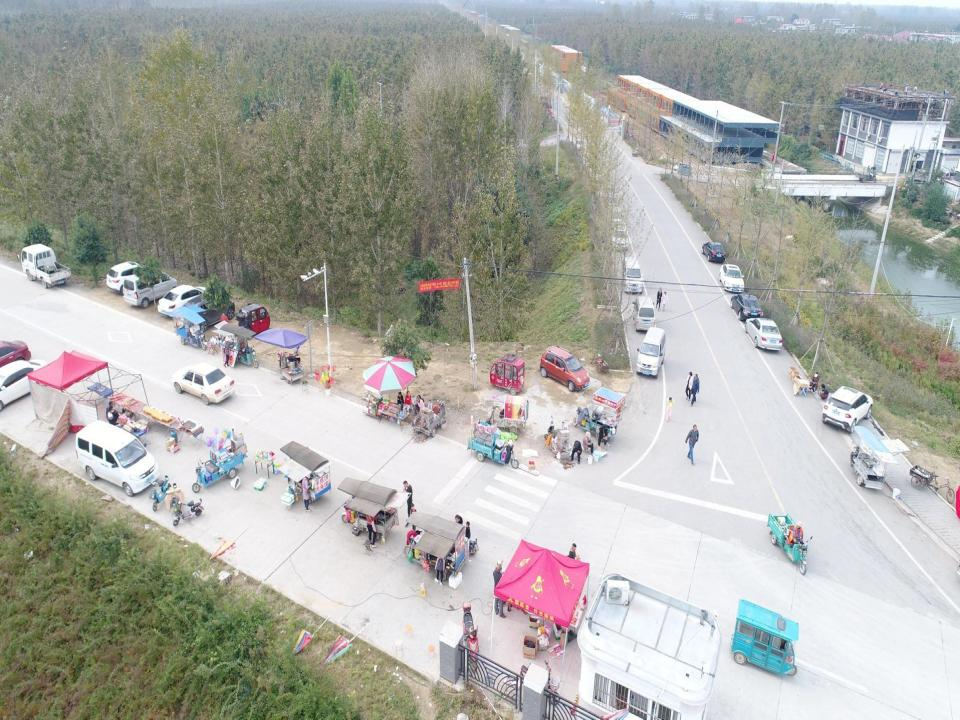car: (171, 362, 235, 406), (1, 358, 52, 410), (821, 384, 874, 434), (538, 344, 592, 393), (180, 292, 236, 332), (106, 260, 160, 296), (157, 283, 209, 317), (743, 312, 783, 352), (729, 290, 764, 322), (621, 256, 644, 296), (718, 264, 744, 293), (611, 217, 630, 253), (700, 242, 726, 263), (573, 136, 588, 154)
truck: (17, 240, 72, 288), (900, 167, 927, 182)
van: (74, 420, 160, 496), (120, 268, 180, 306), (636, 325, 667, 380), (632, 295, 658, 332), (933, 168, 959, 188)
